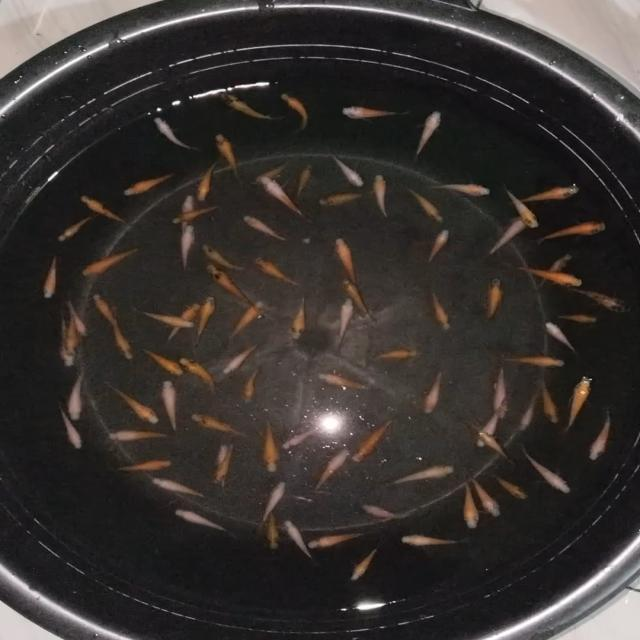nila: (256, 174, 310, 222), (522, 446, 576, 494), (351, 414, 399, 466), (204, 262, 253, 308), (572, 282, 636, 316), (220, 90, 282, 125), (111, 383, 160, 426), (563, 377, 600, 432), (338, 276, 377, 328), (79, 191, 135, 227), (310, 446, 352, 494), (516, 262, 586, 289), (174, 506, 236, 536), (384, 462, 458, 487), (487, 215, 535, 253), (283, 519, 325, 562), (121, 172, 180, 202), (539, 218, 612, 242), (154, 115, 202, 150), (77, 248, 137, 276), (179, 352, 217, 396), (255, 257, 308, 288), (190, 409, 243, 440), (356, 496, 419, 522), (198, 240, 246, 274), (104, 455, 178, 477), (224, 299, 266, 337), (136, 307, 196, 333), (396, 528, 474, 548), (161, 302, 199, 343), (257, 480, 288, 530), (478, 398, 510, 446), (544, 318, 582, 358), (152, 477, 210, 503), (492, 470, 536, 504), (416, 105, 444, 158), (506, 190, 542, 230), (220, 340, 260, 376), (474, 476, 506, 521), (304, 527, 366, 550), (536, 251, 574, 287), (475, 430, 513, 466), (337, 232, 362, 286), (314, 368, 370, 392), (258, 420, 282, 476), (280, 91, 311, 134), (244, 213, 288, 243), (340, 103, 412, 121), (101, 428, 173, 446), (350, 544, 384, 582), (168, 204, 223, 227), (409, 190, 447, 223), (58, 406, 86, 450), (590, 411, 614, 462), (218, 132, 244, 179), (537, 381, 563, 428), (520, 185, 584, 204), (56, 212, 94, 244), (66, 370, 88, 425), (196, 292, 220, 342), (428, 286, 453, 334), (330, 153, 368, 184), (110, 320, 138, 362), (421, 369, 446, 416), (287, 293, 310, 344), (436, 181, 494, 201), (160, 376, 180, 434), (483, 275, 507, 323), (462, 481, 485, 531), (176, 219, 198, 271), (492, 362, 512, 419), (143, 346, 183, 374), (248, 161, 291, 187), (262, 504, 284, 554), (290, 159, 318, 198), (214, 442, 240, 484), (332, 300, 356, 344), (240, 364, 266, 404), (283, 426, 323, 452), (96, 288, 120, 330), (426, 226, 451, 265), (61, 314, 78, 370), (372, 172, 392, 218), (554, 309, 608, 326), (517, 392, 541, 430), (315, 193, 364, 211), (363, 346, 418, 362), (42, 255, 60, 302), (174, 193, 197, 229), (66, 301, 80, 355), (70, 296, 88, 338), (215, 440, 232, 484), (198, 164, 217, 203), (502, 355, 568, 366)
